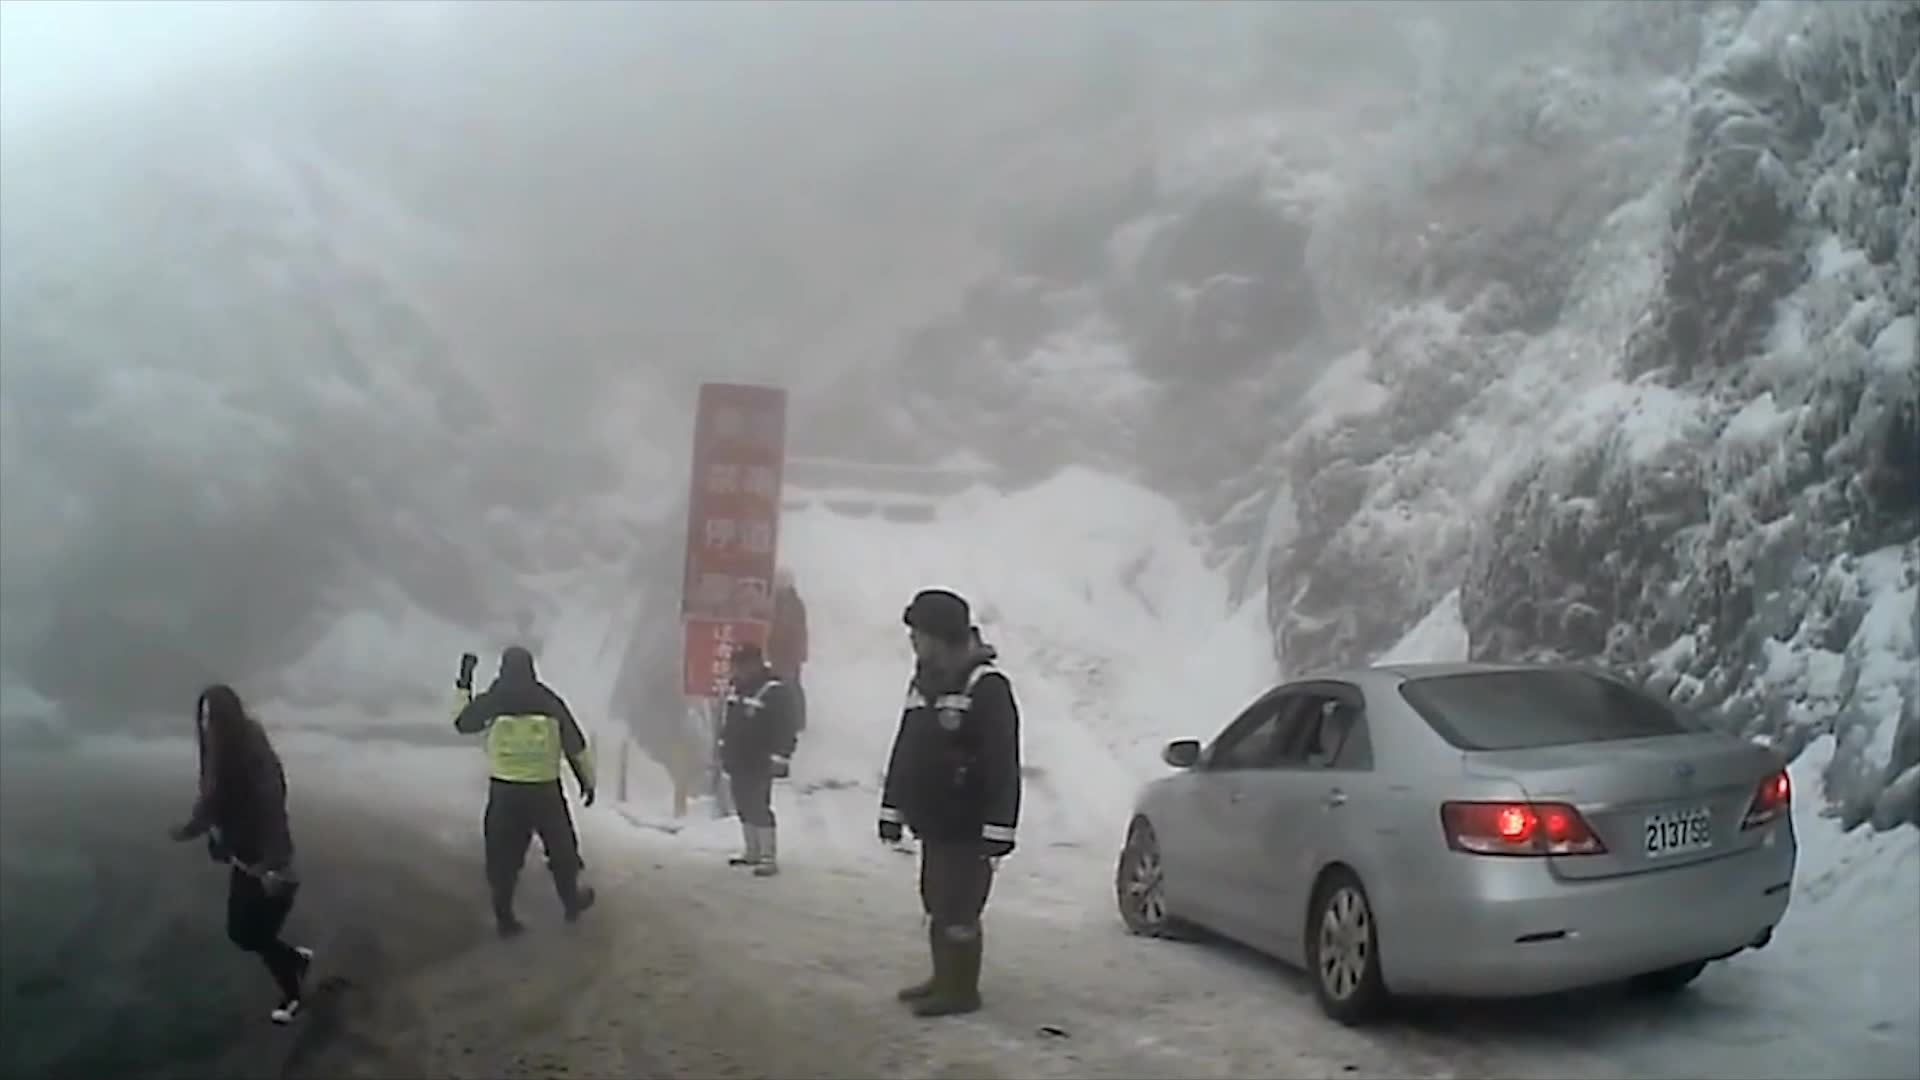pedestrian: (873, 584, 1026, 1023), (166, 687, 323, 1029), (453, 655, 595, 938), (715, 639, 803, 880), (744, 565, 811, 737)
vehicle: (1112, 659, 1796, 1022)
